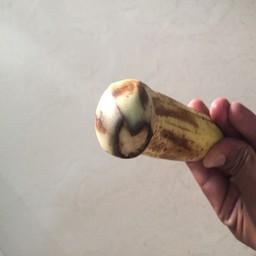Bad_banana: (92, 77, 225, 163)
